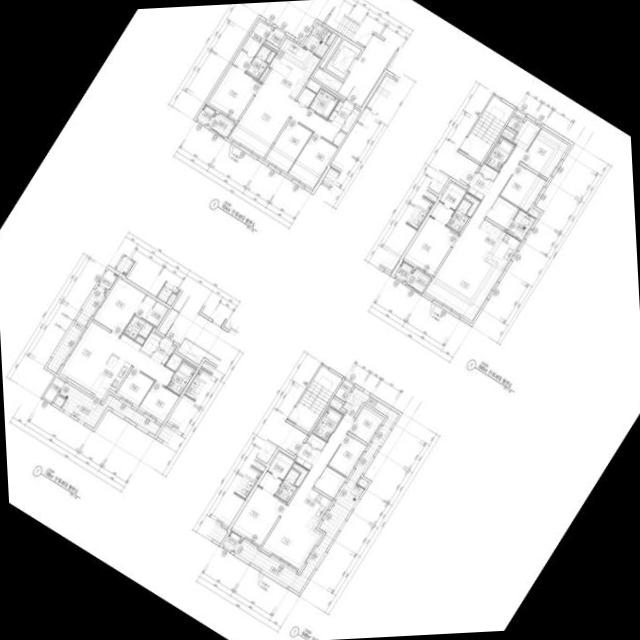background: (0, 0, 640, 640)
space_balconi: (233, 387, 398, 593), (46, 285, 106, 373), (59, 383, 160, 435), (303, 24, 330, 57), (506, 209, 534, 240), (207, 113, 234, 137), (405, 269, 430, 292)
space_bedroom: (403, 216, 458, 276), (231, 486, 286, 545), (93, 278, 145, 335), (208, 65, 260, 121), (287, 133, 337, 188), (265, 119, 311, 172), (520, 129, 568, 179), (499, 164, 545, 212), (327, 434, 365, 476), (139, 382, 178, 422), (116, 367, 153, 406), (348, 408, 382, 443)
space_dressroom: (232, 21, 271, 71), (429, 182, 466, 225), (258, 452, 294, 494), (134, 295, 167, 327)
space_elevator: (325, 39, 361, 79)
space_elevator_hall: (337, 34, 396, 107)
space_front: (327, 99, 354, 129), (294, 443, 321, 470), (466, 173, 492, 201), (150, 337, 175, 365)
space_kitchen: (264, 37, 320, 99), (465, 219, 520, 271), (88, 353, 131, 399), (293, 489, 331, 530)
space_living_room: (424, 119, 540, 321), (262, 414, 354, 569), (229, 80, 340, 158), (59, 321, 174, 390)
space_other: (486, 196, 518, 229), (314, 466, 345, 498), (312, 67, 342, 92), (319, 36, 341, 69), (43, 377, 64, 402), (140, 332, 161, 356), (340, 108, 359, 133), (506, 110, 525, 132), (334, 380, 353, 401), (463, 193, 479, 217), (291, 463, 307, 487), (296, 87, 315, 107), (265, 28, 284, 47), (478, 163, 498, 181), (306, 433, 326, 450), (165, 354, 182, 371), (332, 131, 345, 147), (501, 128, 514, 139), (329, 398, 342, 409), (259, 67, 269, 81), (356, 477, 368, 488), (53, 396, 64, 407), (265, 51, 275, 63), (325, 33, 335, 45), (527, 209, 538, 218), (134, 336, 144, 344)
space_outdoor_room: (393, 261, 412, 282), (98, 269, 117, 290), (222, 531, 240, 551), (196, 105, 214, 125)
space_staircase: (459, 96, 514, 163), (287, 366, 342, 433)
space_toilet: (485, 137, 514, 171), (166, 361, 195, 395), (313, 407, 342, 441), (308, 88, 338, 119), (245, 45, 271, 79), (446, 198, 471, 233), (274, 468, 299, 503), (123, 315, 153, 339)
